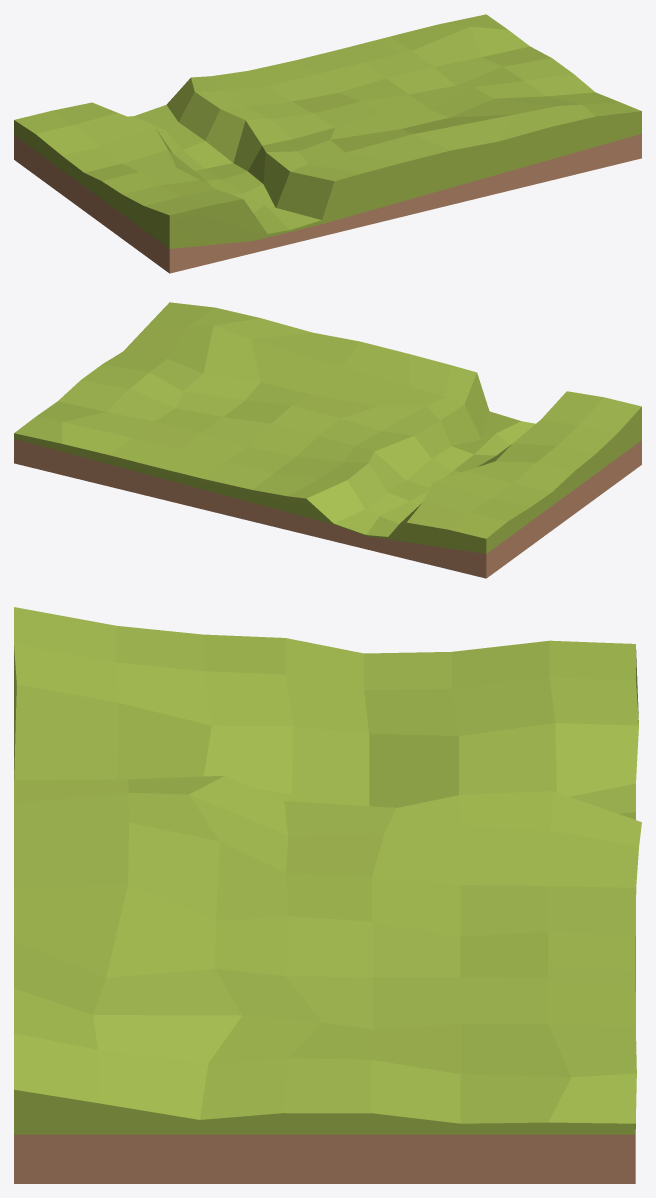
The model's file is ground.glb.
3 renders of one model, top to bottom at view 1: azimuth 30°, elevation 25°; view 2: azimuth 150°, elevation 25°; view 3: azimuth 270°, elevation 25°, orthographic. The views are drawn at different scales.
Visible parts, largest first — view 1: Ground; view 2: Ground; view 3: Ground.
Part boxes in pixels (x1=…): Ground: x1=14, y1=14, x2=641, y2=273; Ground: x1=14, y1=302, x2=641, y2=578; Ground: x1=14, y1=607, x2=641, y2=1183.
Size of the model in its own units: 36.79 by 4.34 by 21.2.
